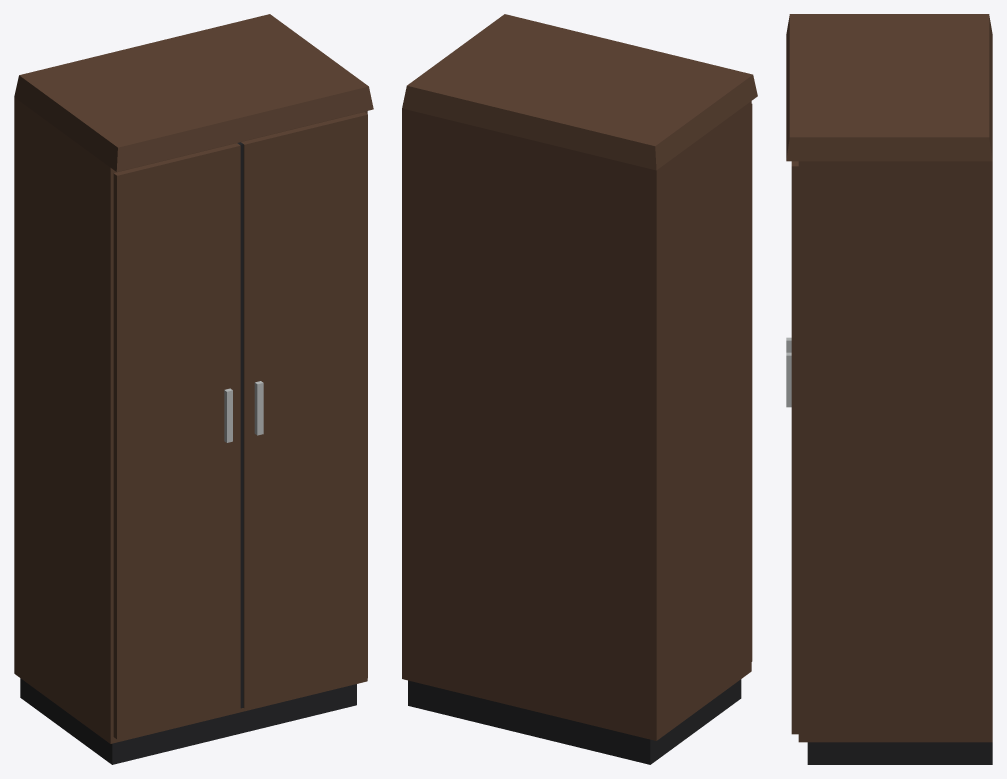
Rendered from wardrobe.glb.
3 renders of one model, left to right at view 1: azimuth 30°, elevation 25°; view 2: azimuth 150°, elevation 25°; view 3: azimuth 270°, elevation 25°, orthographic.
Parts seen in each view (by area): view 1: wardrobe; view 2: wardrobe; view 3: wardrobe.
Part boxes in pixels (x1=…): wardrobe: x1=14, y1=14, x2=373, y2=764; wardrobe: x1=402, y1=14, x2=757, y2=764; wardrobe: x1=786, y1=14, x2=992, y2=764.
Bounding box in the file's own units: 0.84 × 1.95 × 0.58.
